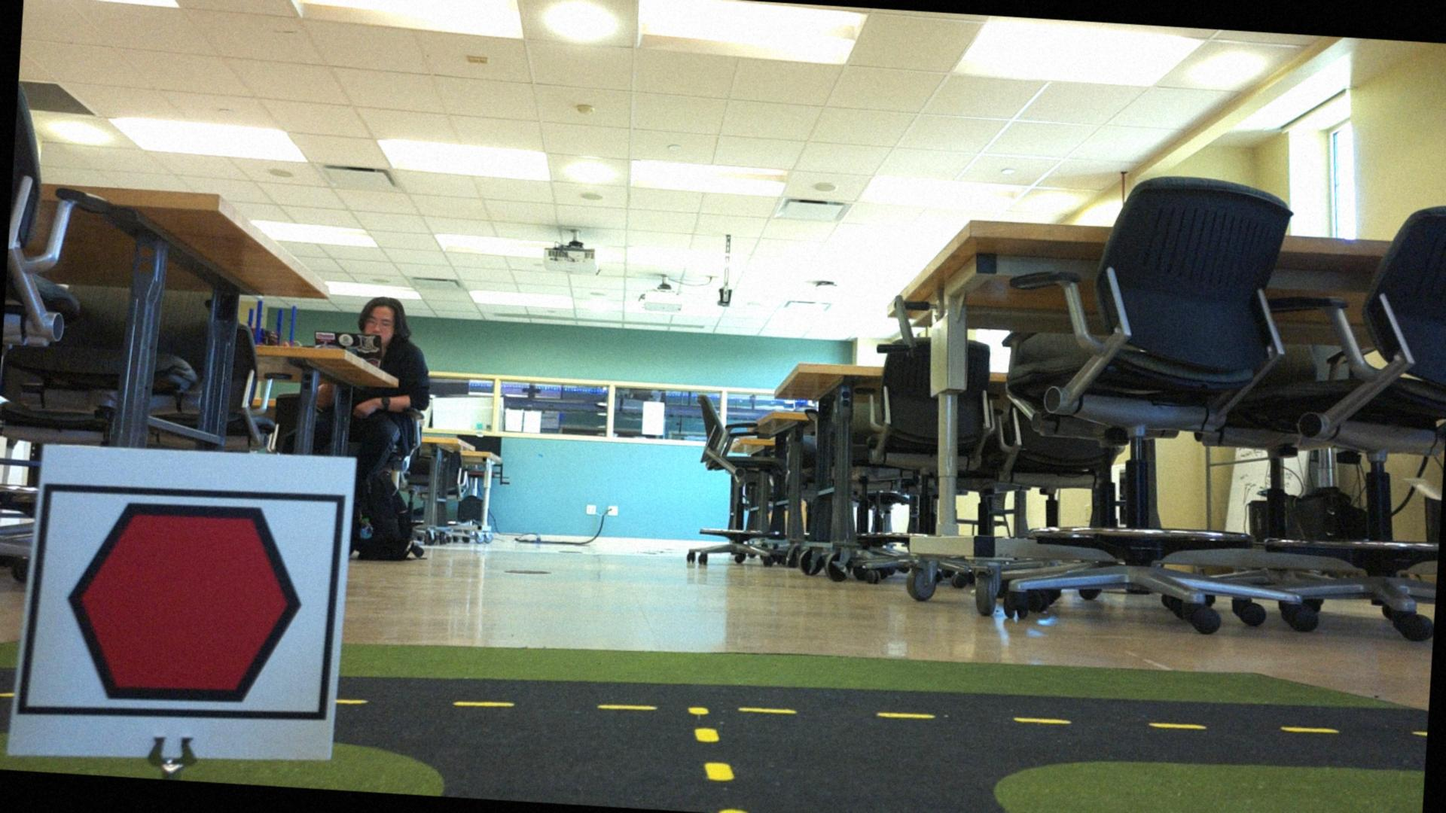stop: (41, 486, 328, 720)
yellowline: (686, 705, 735, 789)
